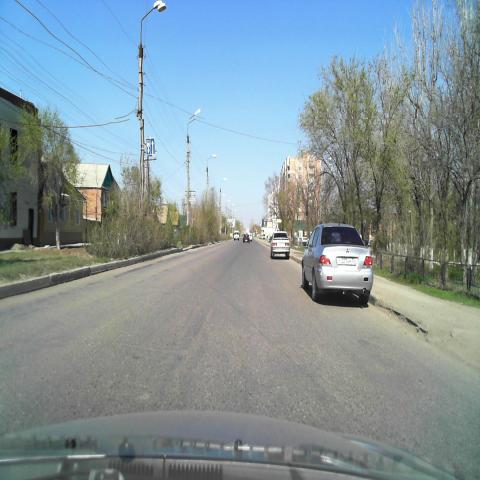5_11: (146, 137, 155, 156)
